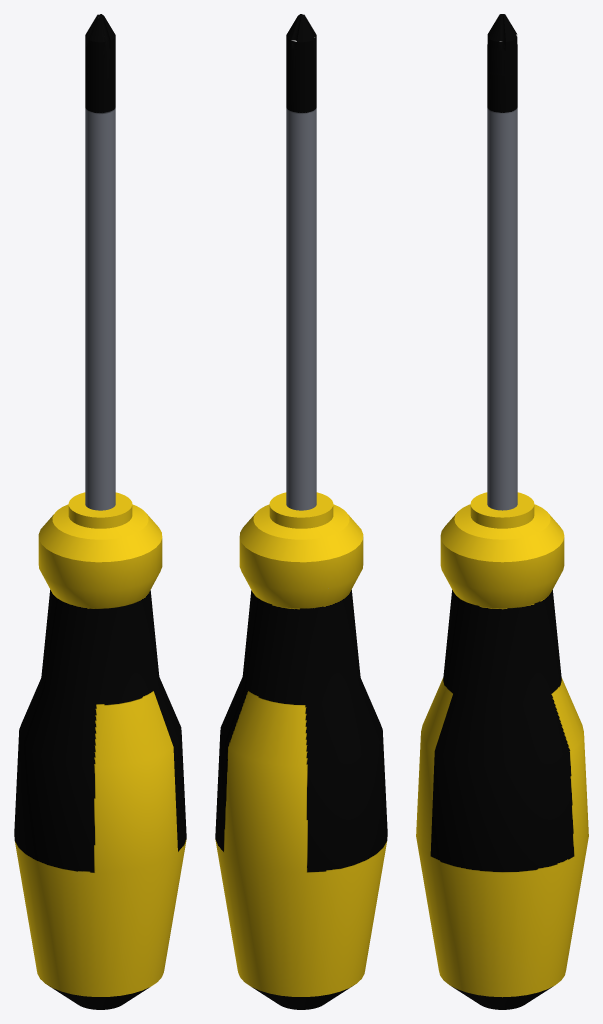
The model's file is PhilipsHead.fbx.
3 views of the same model, side by side, from view 1: azimuth 30°, elevation 25°; view 2: azimuth 150°, elevation 25°; view 3: azimuth 270°, elevation 25° (orthographic).
Visible parts, largest first — view 1: Cylinder.005; view 2: Cylinder.005; view 3: Cylinder.005.
Part boxes in pixels (bbox=[...]): Cylinder.005: bbox=[14, 14, 186, 1009]; Cylinder.005: bbox=[215, 14, 387, 1009]; Cylinder.005: bbox=[416, 14, 588, 1009].
Size of the model in its own units: 77.23 by 485 by 77.23.
Materials: 1 (1 with a texture image).
